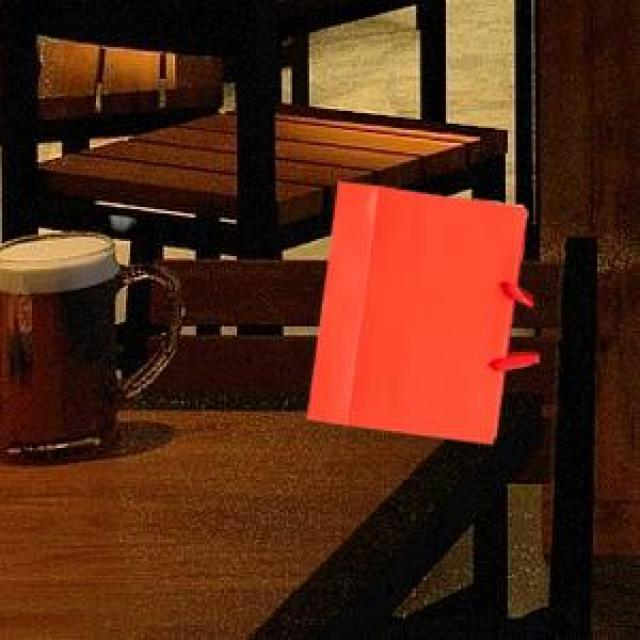Paper_Bag: (304, 178, 537, 441)
